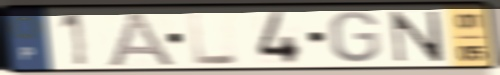1: (58, 11, 90, 67)
4: (255, 9, 304, 66)
A: (103, 9, 179, 68)
G: (328, 9, 383, 64)
L: (186, 10, 241, 67)
N: (388, 9, 446, 64)
